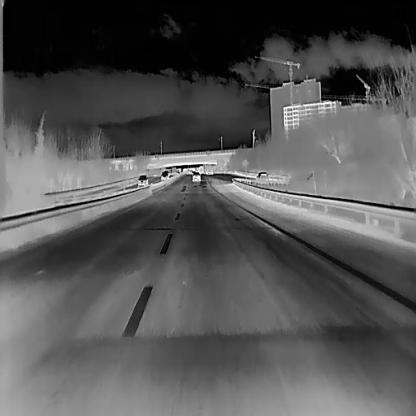car: (137, 174, 148, 185), (191, 172, 201, 182), (256, 172, 267, 181), (160, 172, 169, 180), (206, 168, 211, 174)
